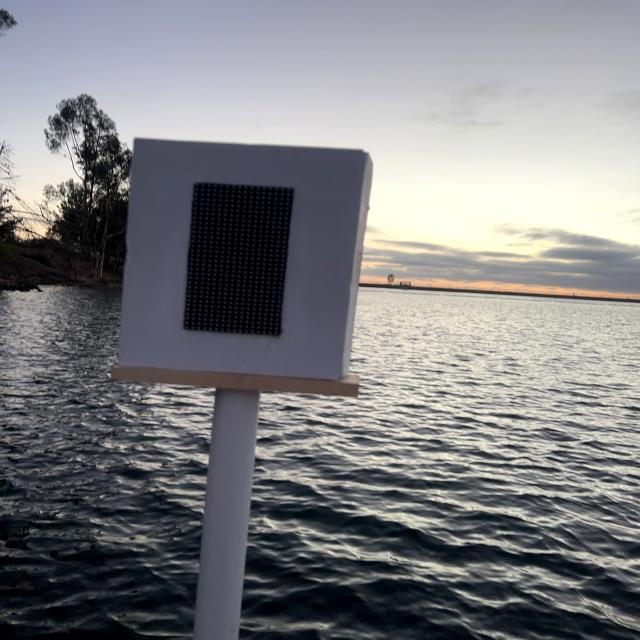led: (145, 149, 332, 371)
